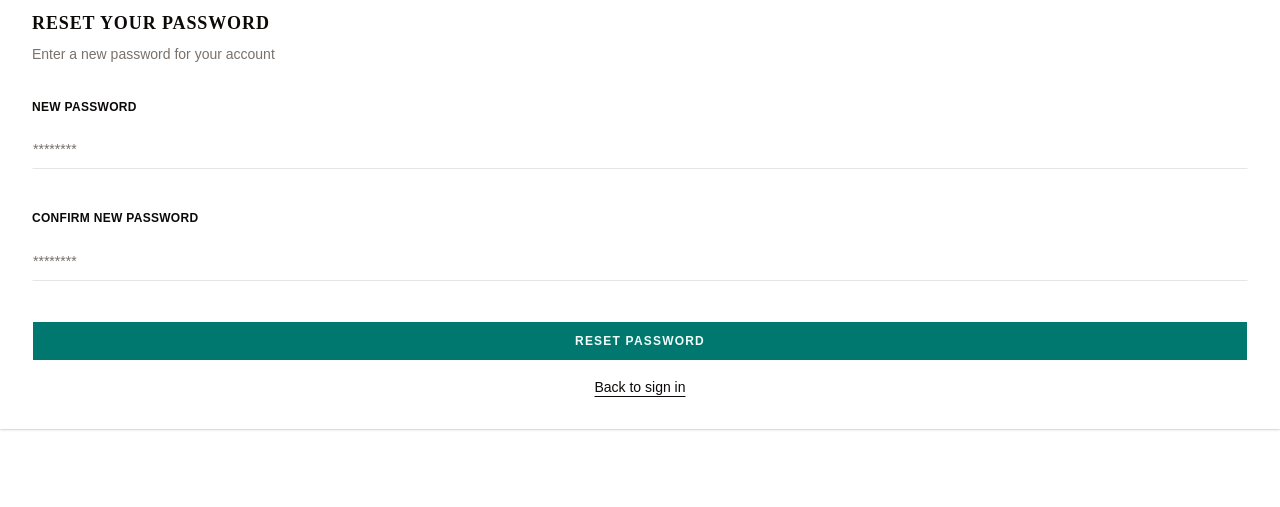
Scenario: ResetPasswordForm › shows a server error when resetPassword fails
This screenshot has width=1280, height=507.
Type "newpassword123" into the password field labelled "New password". click: (640, 149)
box: [32,129,1248,169]
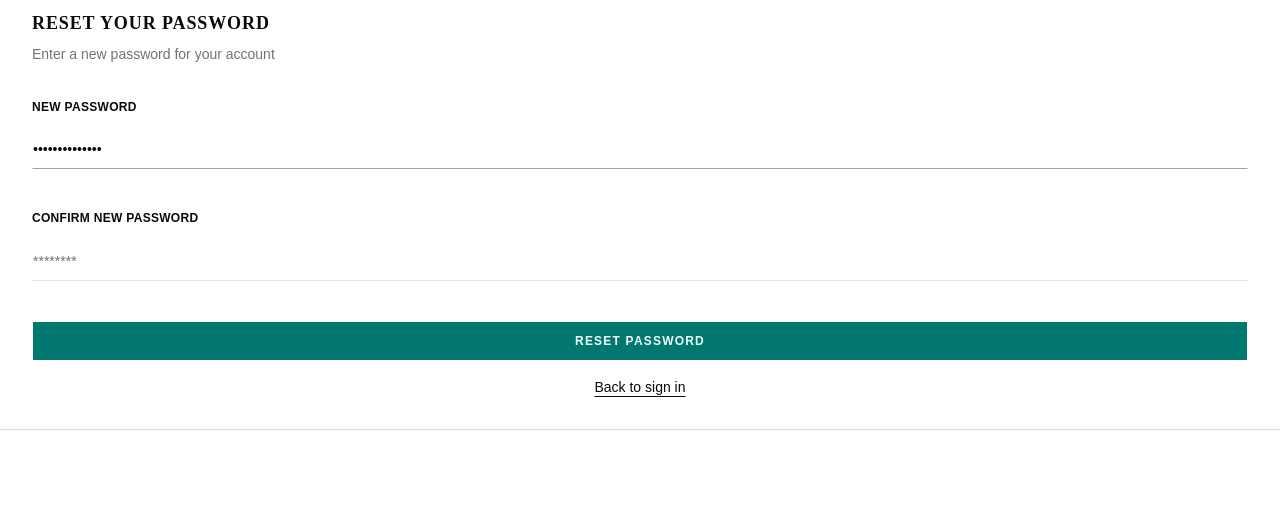
Type "newpassword123" into the password field labelled "Confirm new password". click: (640, 261)
box: [32,241,1248,281]
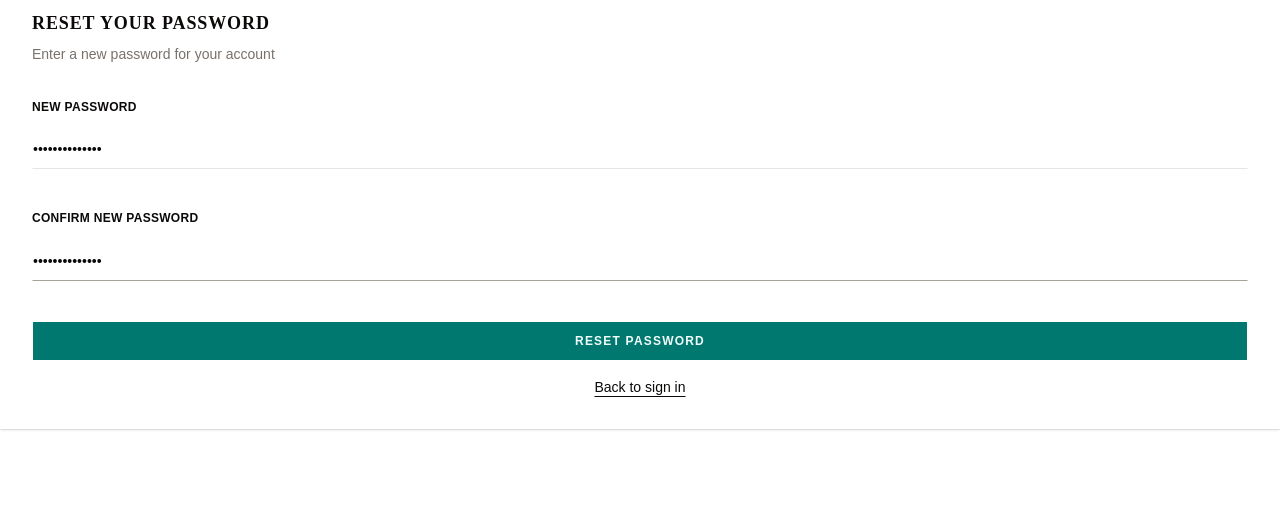
Click the button "Reset password". click: (640, 341)
box: [32,321,1248,361]
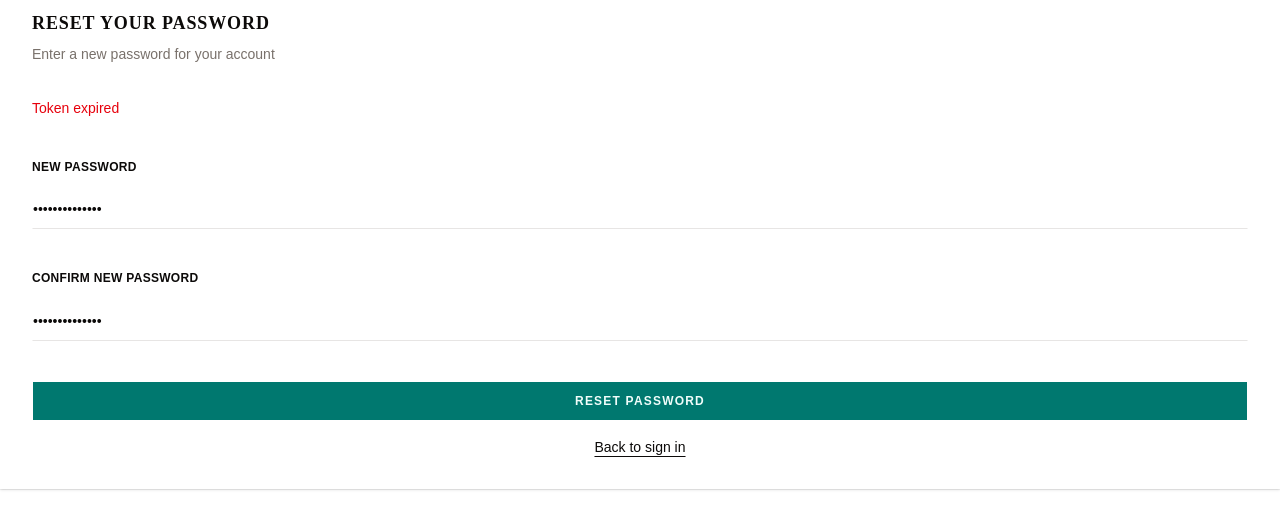
Now the text "Token expired" is shown, box [32,100,119,116]
